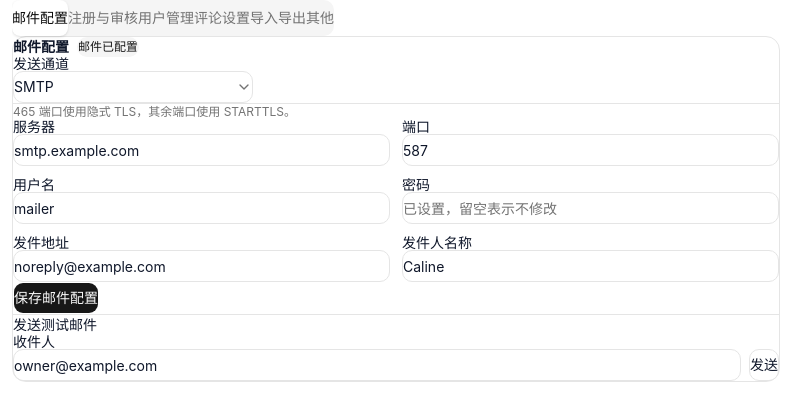
Test: 系统管理 › 用户列表加载失败时就地报错
Step 1. Click the tab "用户管理" → (166, 18), box [138,9,194,26]
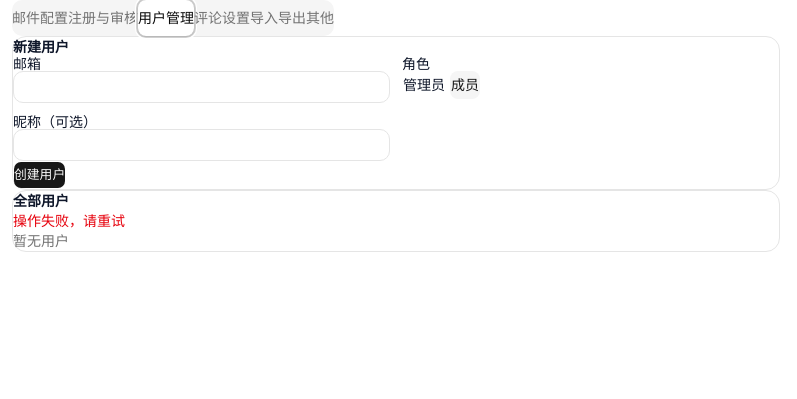
Now the message shows "操作失败", box [13,212,125,229]
